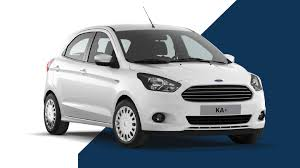Ford: (45, 23, 267, 146)
